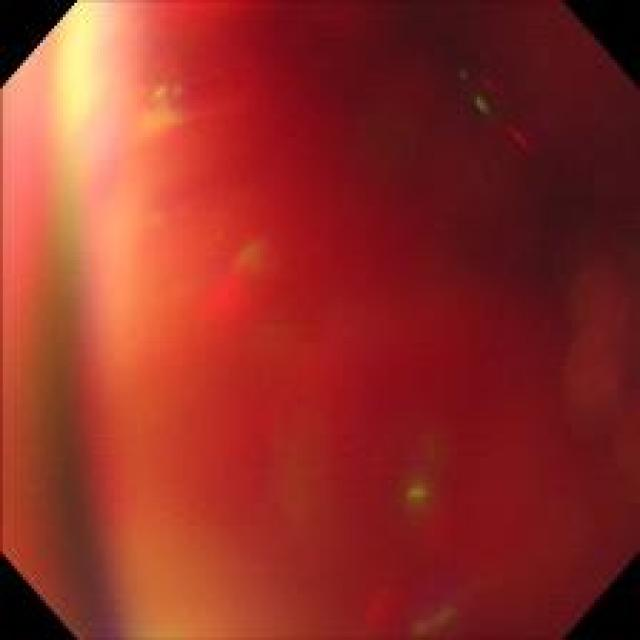blur: (10, 12, 626, 622)
color misalignment: (11, 11, 640, 631), (32, 1, 386, 452), (356, 465, 466, 631), (438, 54, 548, 171)
